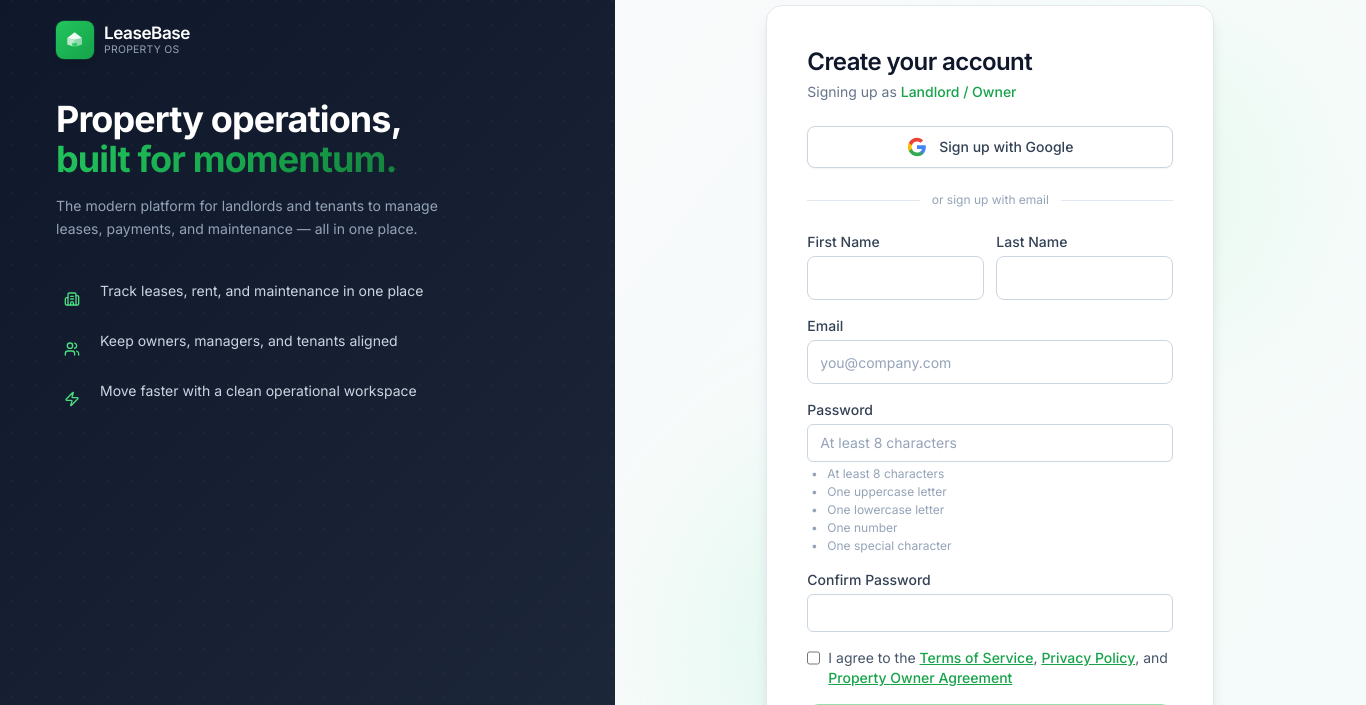
Test: Register page — password validation UX › submit button becomes enabled with a valid password + matching confirm + consent
Type "Smoke" into the field labelled "First Name" at {"x": 896, "y": 278}, box [807, 256, 984, 300]
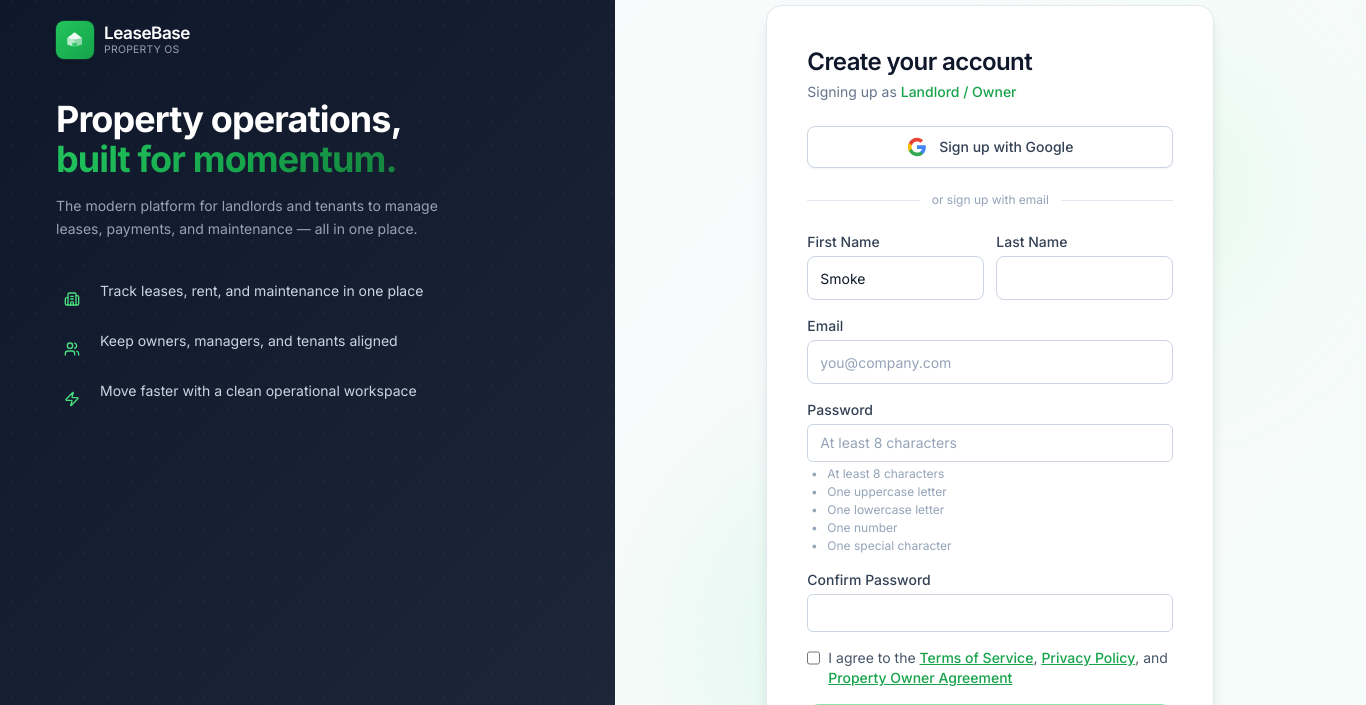
Type "Test" into the field labelled "Last Name" at {"x": 1085, "y": 278}, box [996, 256, 1173, 300]
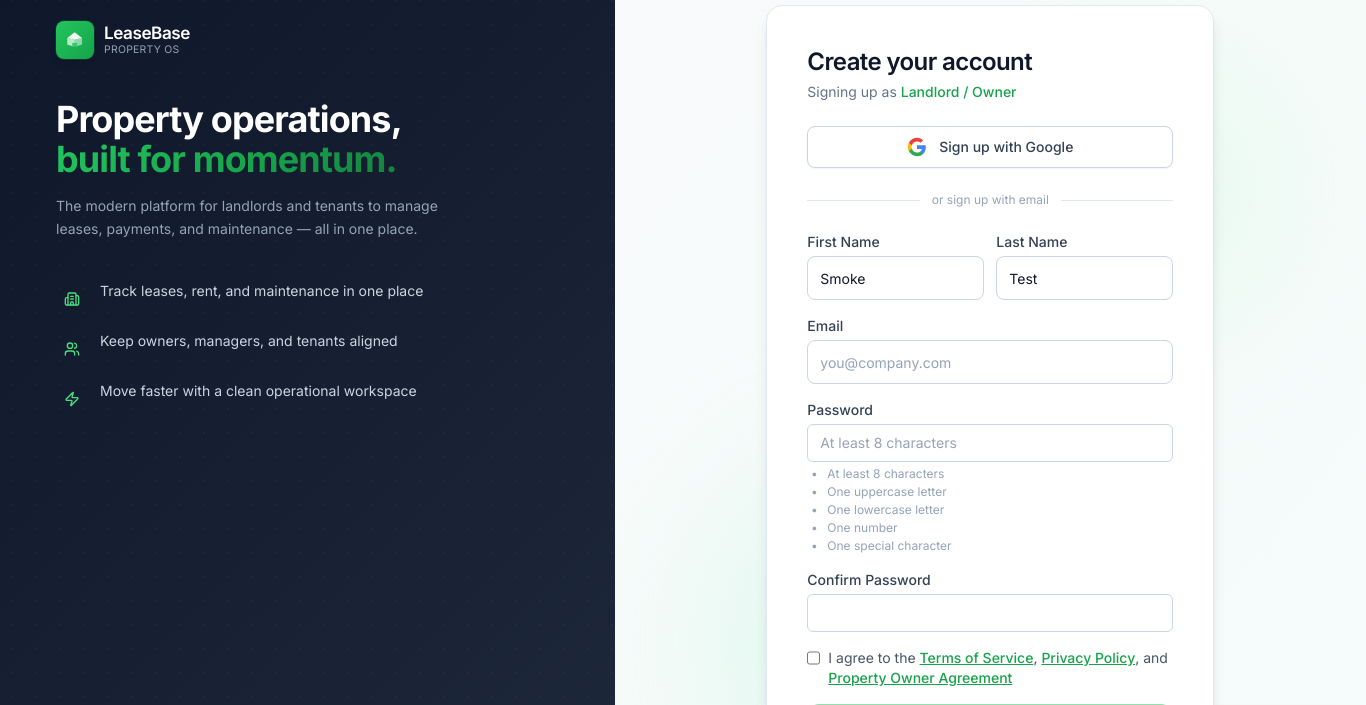
Type "a@b.co" into the field labelled "Email" at {"x": 990, "y": 362}, box [807, 340, 1173, 384]
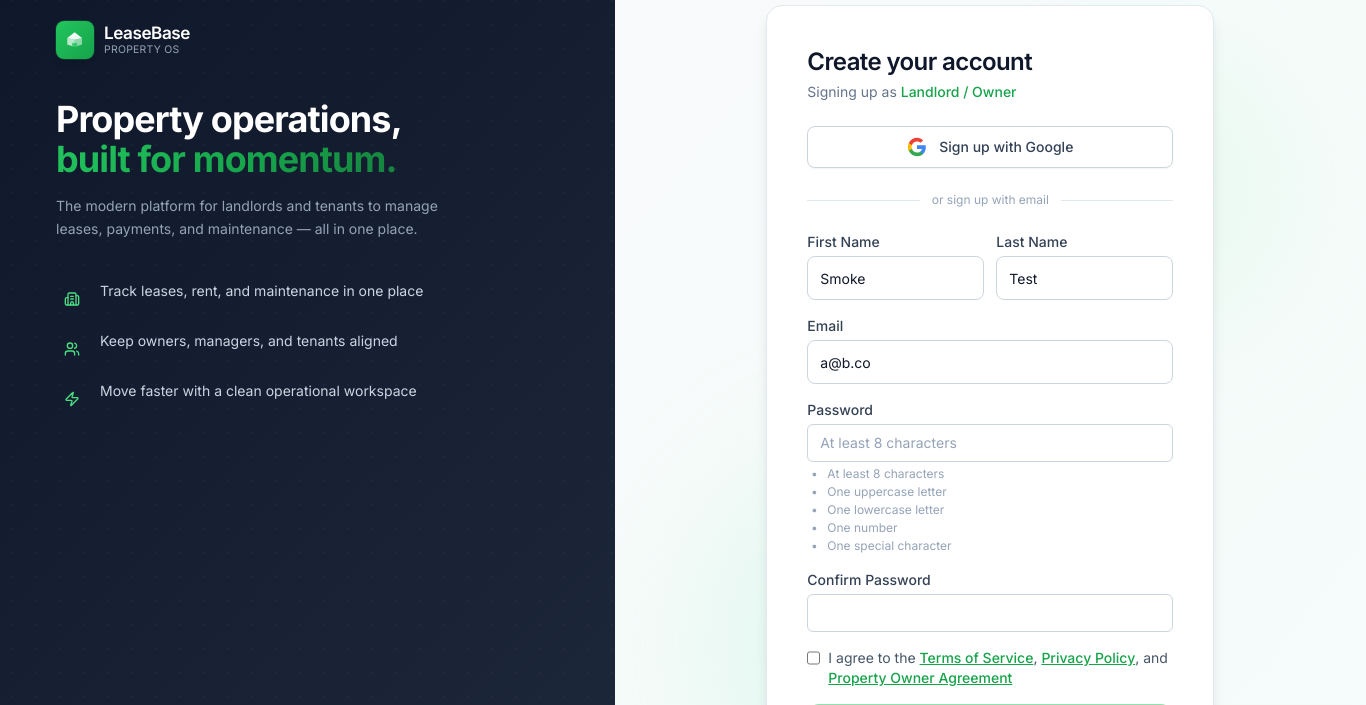
Type "GoodP@ss1" into the password field labelled "Password" at {"x": 990, "y": 443}, box [807, 424, 1173, 462]
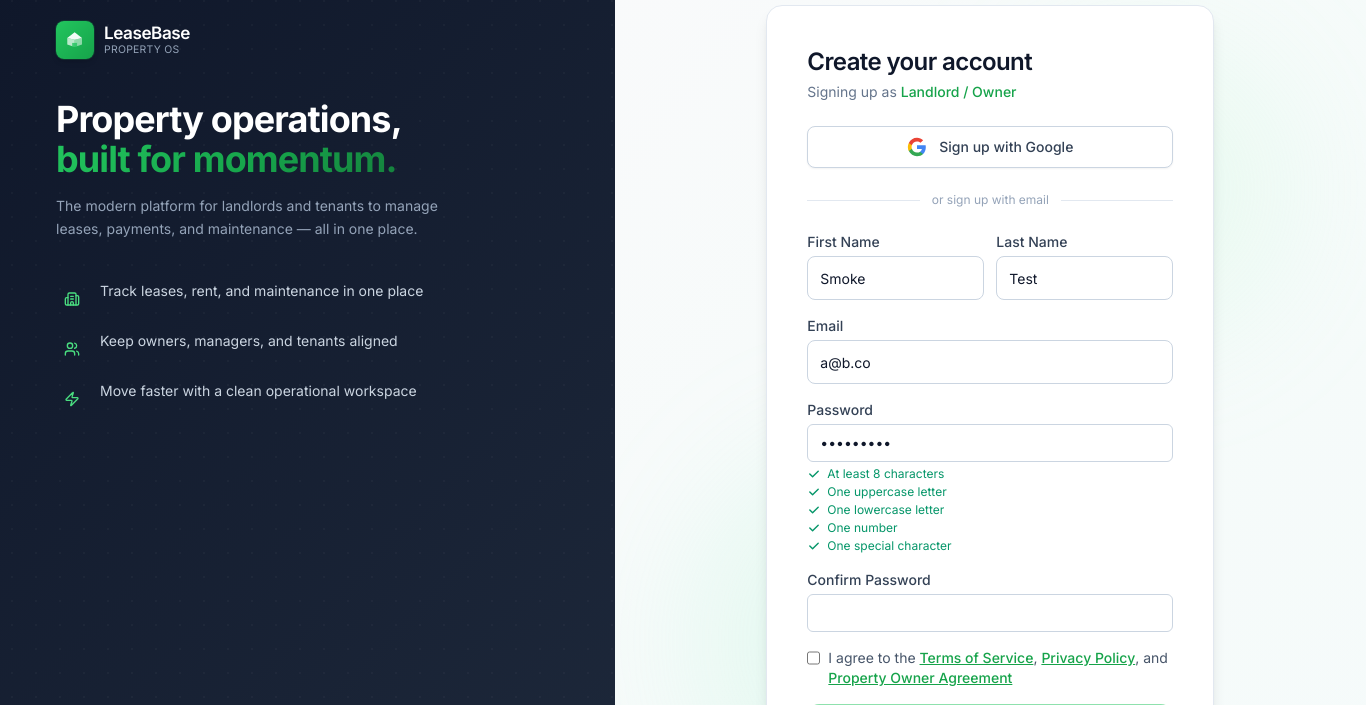
Type "GoodP@ss1" into the password field labelled "Confirm Password" at {"x": 990, "y": 613}, box [807, 594, 1173, 632]
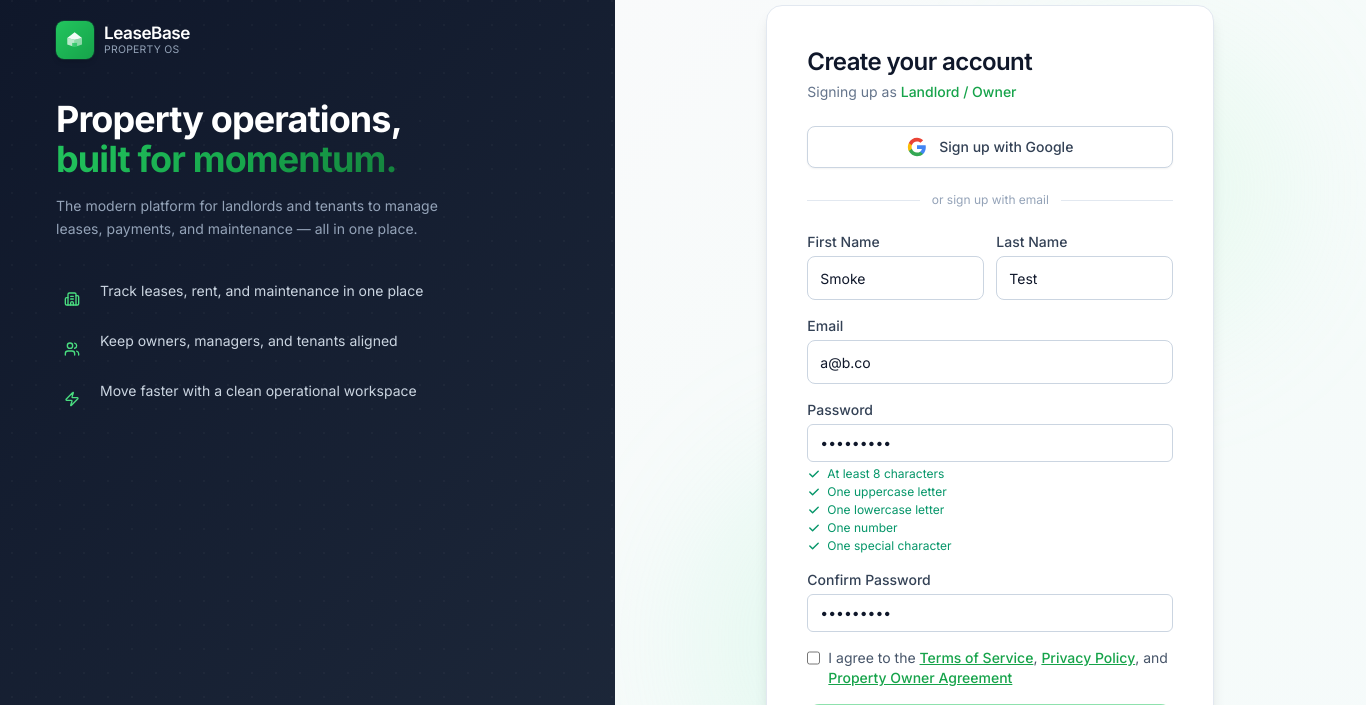
Click the checkbox at {"x": 814, "y": 658}, box [807, 650, 820, 666]
(page scrolled)
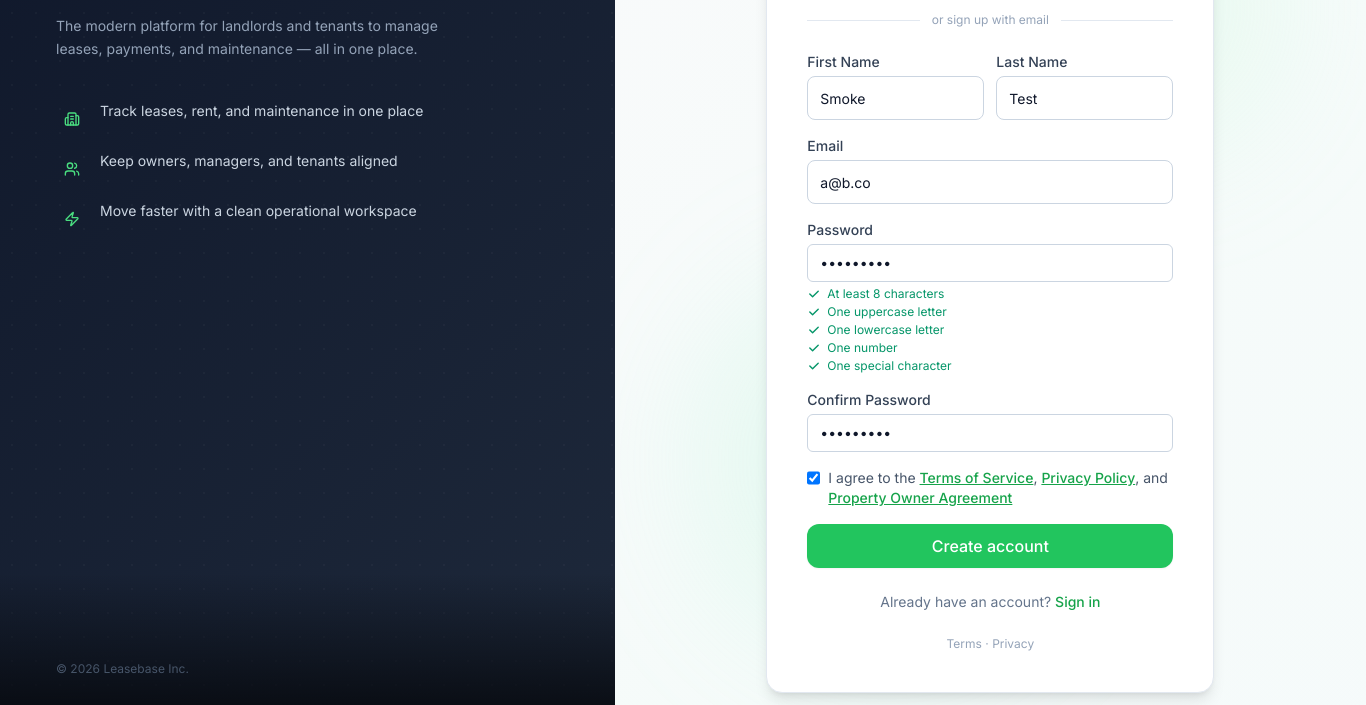
Expected: the button "Create account" is enabled, [807, 524, 1173, 568]
